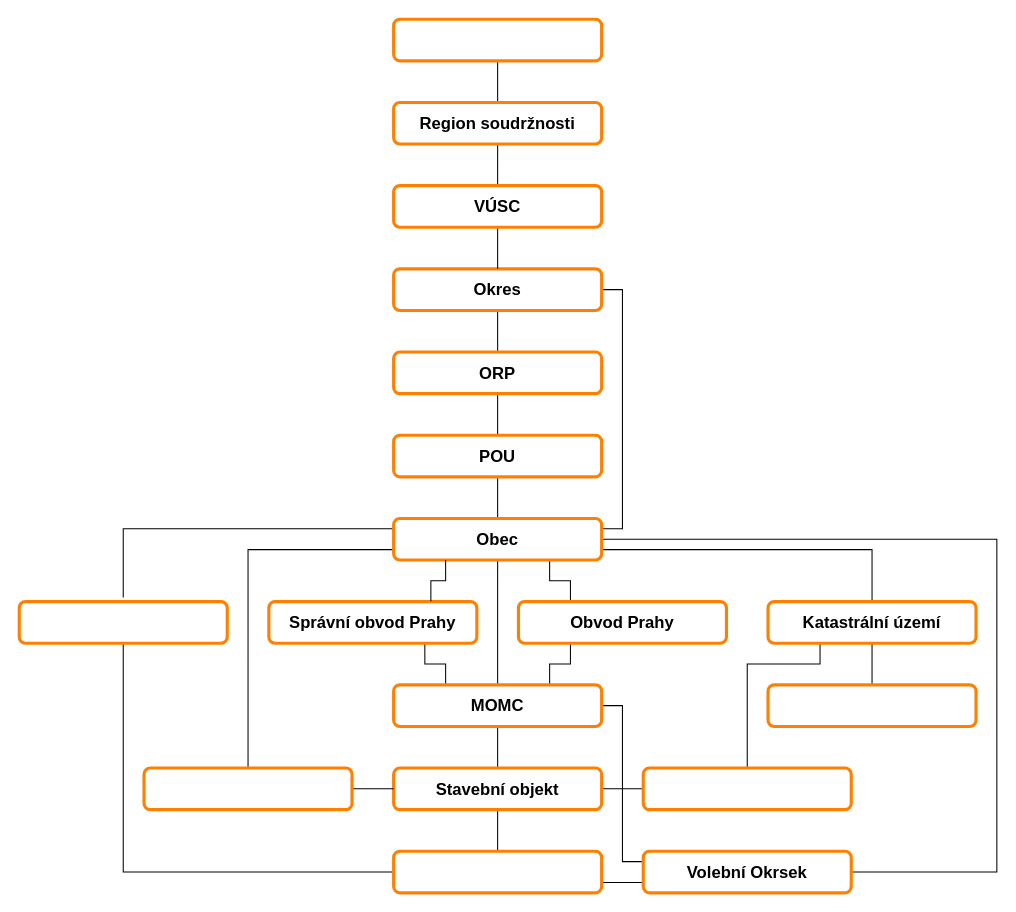
The diagram is 1016 pixels wide and 912 high, and some of its shapes have lost their labels. The shapes that lost their labels are listed below. From the top down, each one's centre as x and y in pixels, then its label:
point (497, 39): Stát
point (122, 622): Ulice
point (871, 705): ZSJ
point (247, 788): Část ob ce
point (746, 788): Parcela
point (497, 871): Adresní místo
